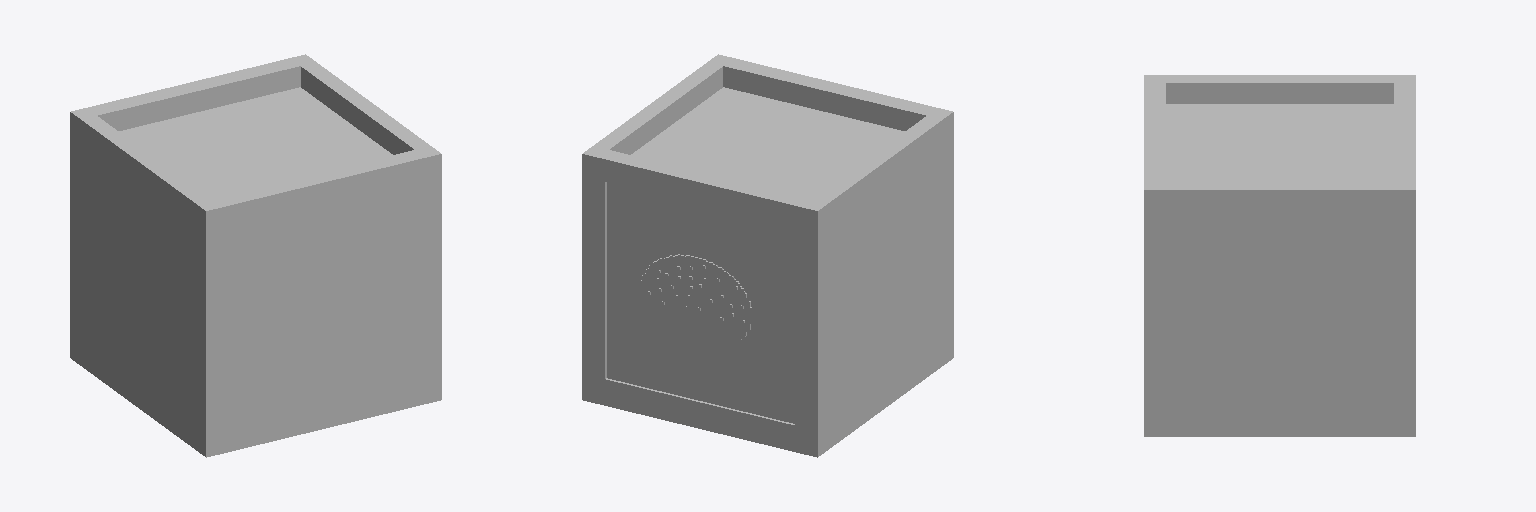
The model's file is AlmacenPan.obj.
The picture shows the model from 3 angles: view 1: azimuth 30°, elevation 25°; view 2: azimuth 150°, elevation 25°; view 3: azimuth 270°, elevation 25°; orthographic projection.
Visible parts, largest first — view 1: object 1; view 2: object 1; view 3: object 1.
Boxes of the visible parts, x1=… form: object 1: x1=70, y1=54, x2=441, y2=457; object 1: x1=582, y1=54, x2=953, y2=457; object 1: x1=1144, y1=75, x2=1415, y2=436.
Size of the model in its own units: 17.6 by 17.6 by 17.6.